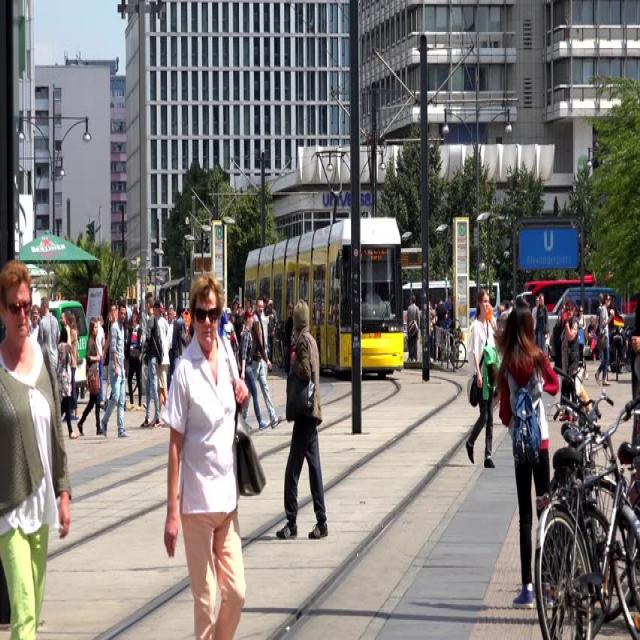body: (162, 265, 268, 639), (0, 254, 74, 638), (493, 292, 562, 612), (274, 298, 331, 546), (463, 285, 501, 471), (238, 295, 284, 432), (100, 299, 132, 440), (236, 307, 270, 432), (75, 316, 107, 440), (138, 294, 164, 430), (101, 302, 127, 414), (55, 324, 79, 441), (557, 297, 580, 407), (153, 298, 172, 430), (124, 305, 144, 412), (36, 295, 62, 372), (593, 290, 613, 386), (631, 288, 640, 501), (550, 192, 608, 225), (605, 292, 628, 373), (363, 278, 386, 350), (66, 312, 80, 423), (548, 297, 566, 371), (171, 303, 188, 376), (263, 292, 278, 368), (282, 302, 296, 382), (139, 293, 149, 400), (28, 303, 46, 360), (534, 292, 551, 352), (95, 312, 106, 403), (406, 295, 420, 365), (433, 295, 447, 361), (493, 290, 518, 326), (405, 292, 417, 361), (222, 306, 240, 350), (218, 289, 230, 355), (574, 304, 586, 369), (167, 305, 175, 391), (230, 312, 243, 364), (104, 308, 112, 383), (124, 320, 134, 379), (444, 295, 453, 360), (231, 289, 257, 311), (531, 294, 541, 346), (429, 296, 437, 361), (159, 296, 176, 325), (555, 375, 565, 421), (59, 311, 72, 345), (122, 298, 139, 322), (187, 321, 197, 352), (34, 297, 43, 331), (596, 290, 604, 326), (586, 314, 596, 334), (148, 291, 160, 301), (572, 298, 578, 318), (115, 300, 119, 317)
